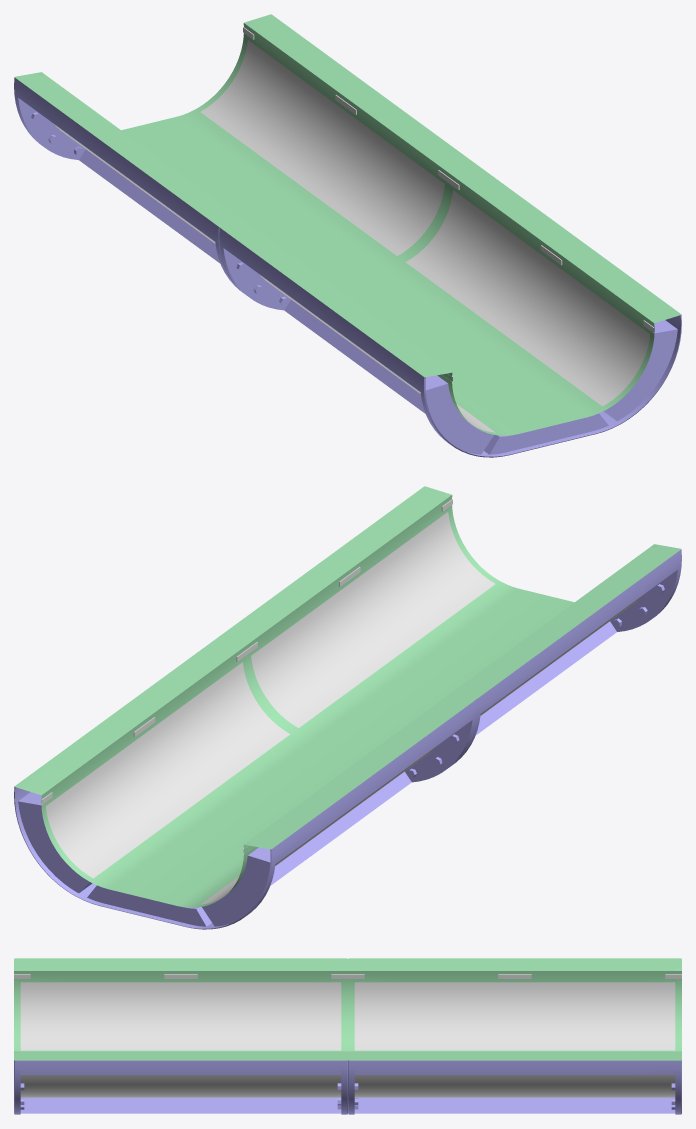
Rendered from Wasserrutsch_teil_2.fbx.
The picture shows the model from 3 angles, top to bottom: view 1: azimuth 30°, elevation 25°; view 2: azimuth 150°, elevation 25°; view 3: azimuth 270°, elevation 25°; orthographic projection. The views are drawn at different scales.
Visible parts, largest first — view 1: Halb_Unten_Glas; view 2: Halb_Unten_Glas; view 3: Halb_Unten_Glas.
Part boxes in pixels (box(x1,y1,x2,y2)): Halb_Unten_Glas: box(14, 14, 681, 457); Halb_Unten_Glas: box(14, 486, 681, 929); Halb_Unten_Glas: box(14, 958, 681, 1114).
Size of the model in its own units: 363 by 1000 by 161.
